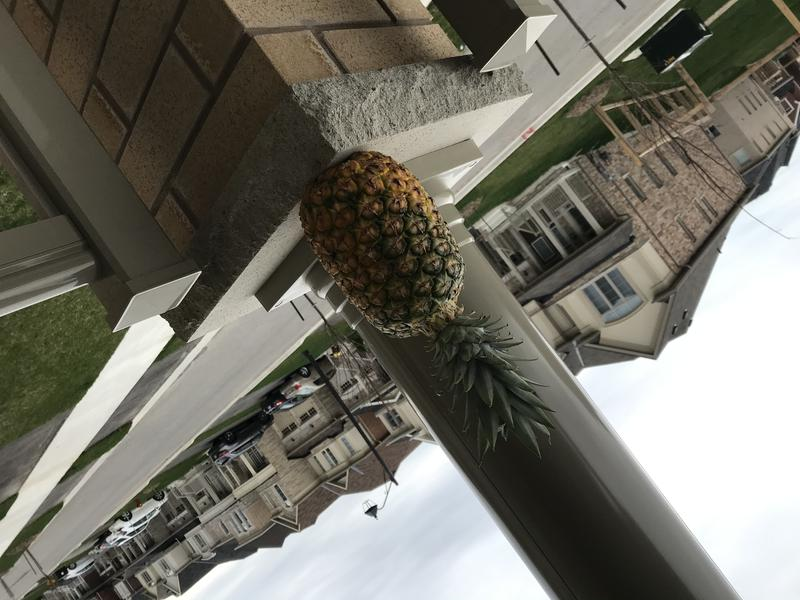pineapple: (293, 137, 563, 482)
